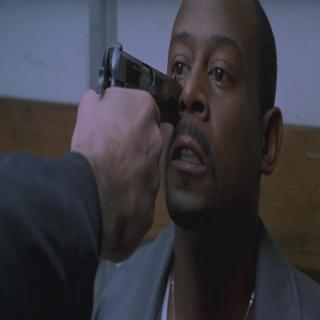gun: (84, 46, 180, 240)
